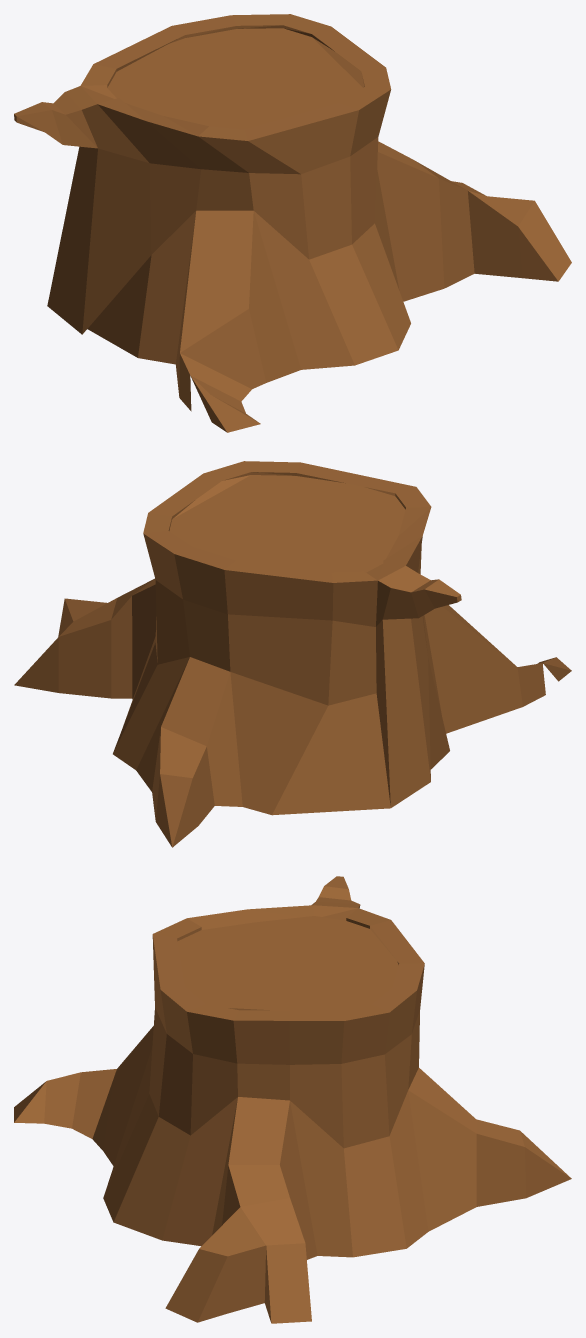
File: tronco.glb
3 views of the same model, one above another, from view 1: azimuth 30°, elevation 25°; view 2: azimuth 150°, elevation 25°; view 3: azimuth 270°, elevation 25° (orthographic). The views are drawn at different scales.
Parts seen in each view (by area): view 1: Cylinder; view 2: Cylinder; view 3: Cylinder.
Part boxes in pixels (<box>): Cylinder: <box>14,14,571,432</box>; Cylinder: <box>14,461,571,847</box>; Cylinder: <box>14,876,571,1323</box>.
Size of the model in its own units: 4.48 by 2 by 4.49.
1 material, 1 textured.
